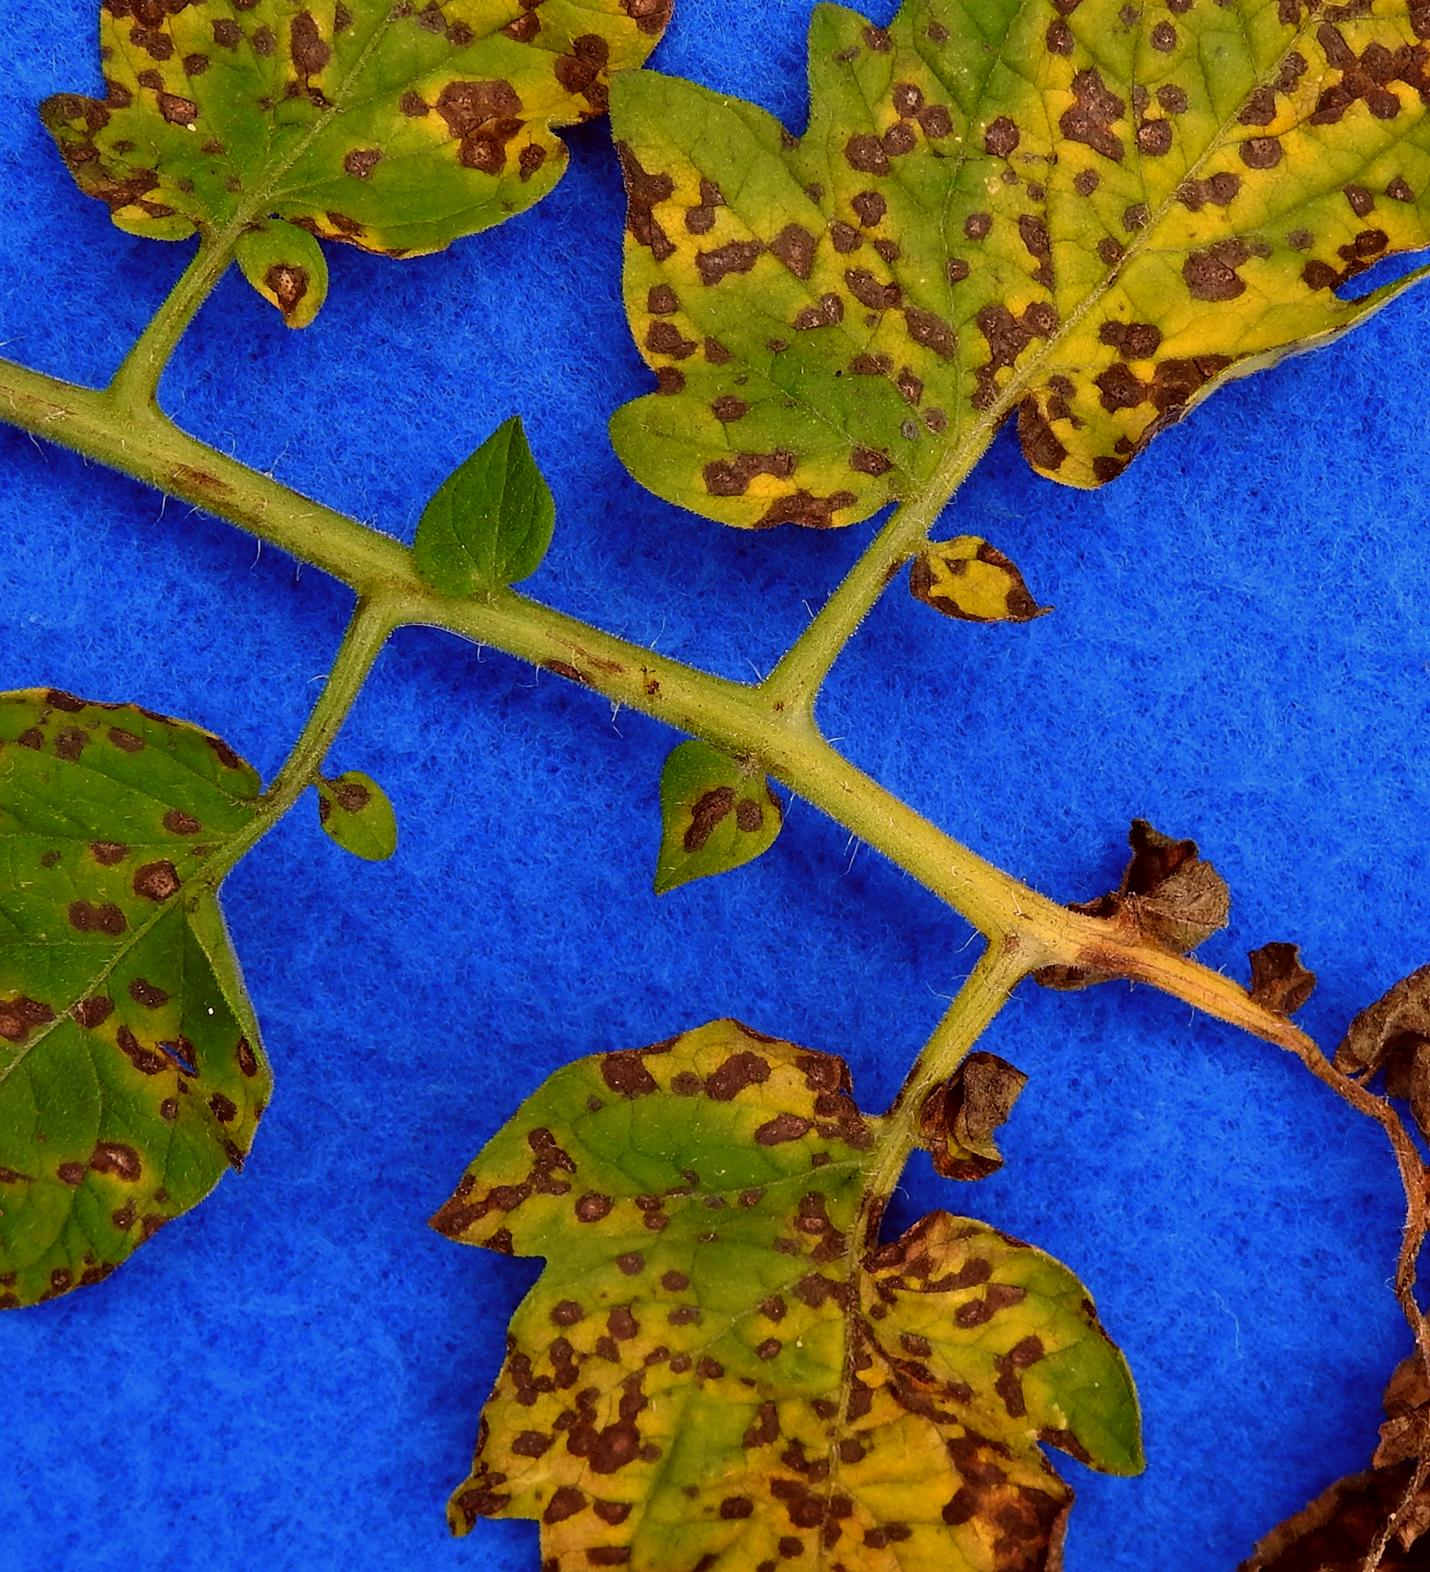Tomato Septoria leaf spot: (607, 0, 1430, 589), (436, 1026, 1205, 1572), (0, 613, 316, 1483), (48, 0, 747, 329)
